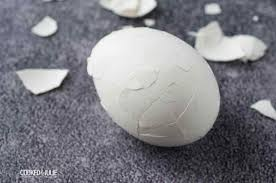eggs: (91, 29, 220, 147)
